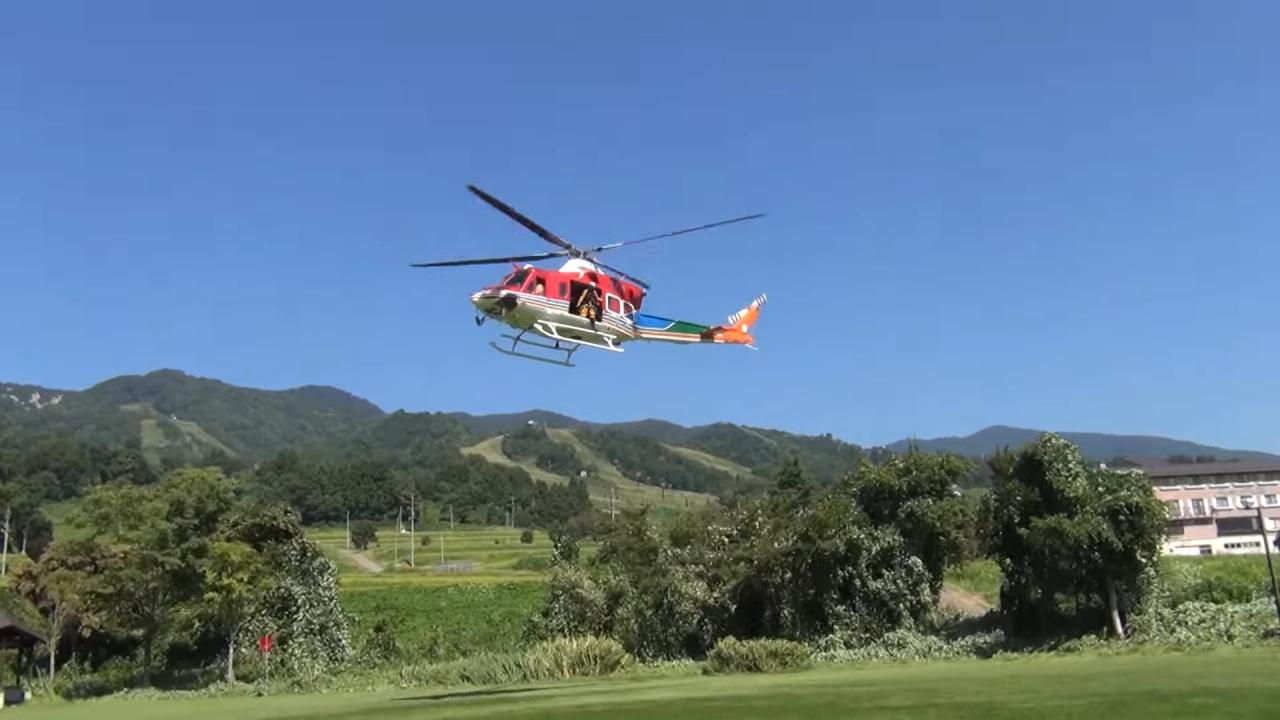Helicopter: (400, 172, 782, 384)
